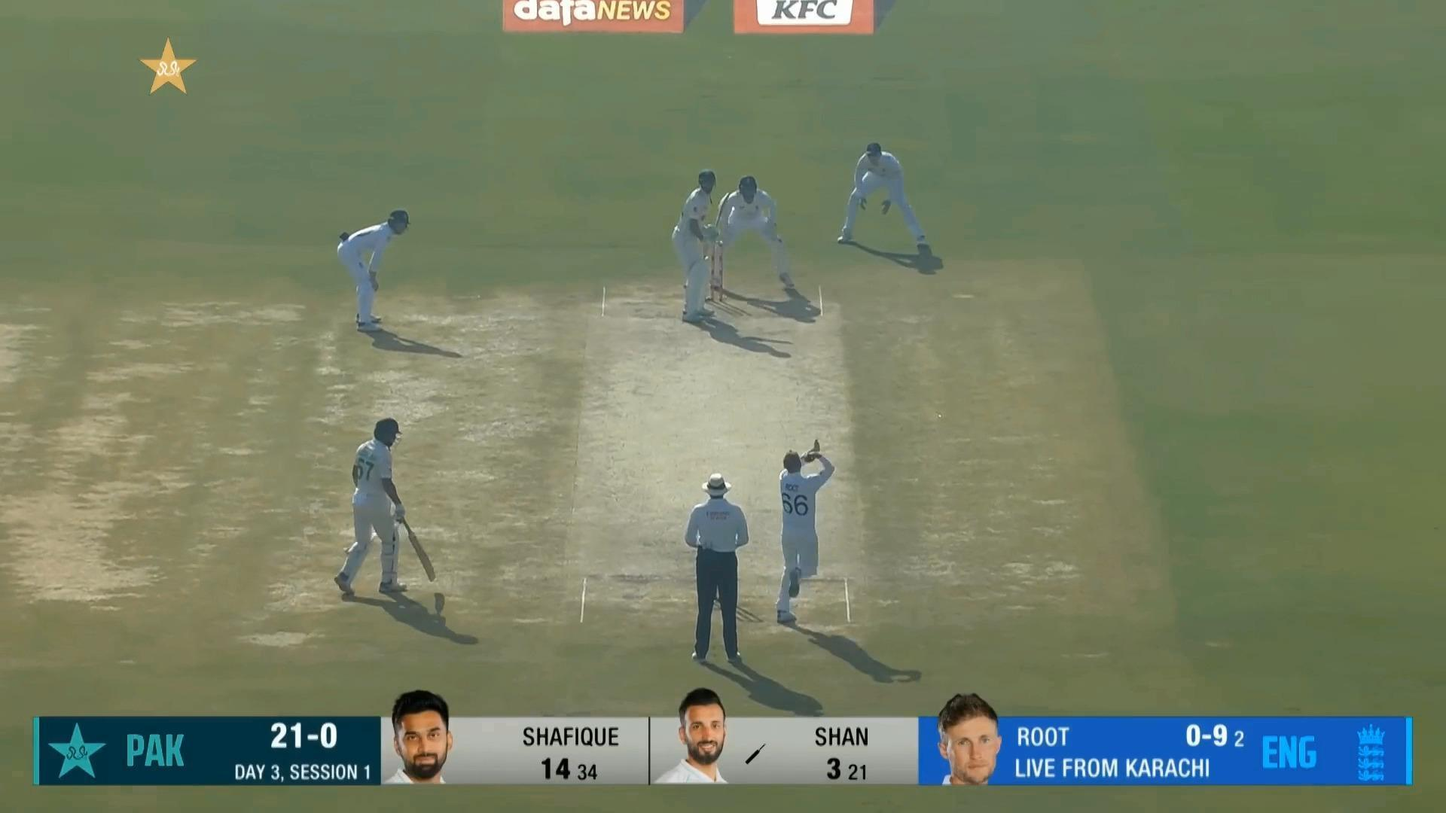BM 1: (670, 170, 732, 324)
BO: (774, 437, 837, 626)
